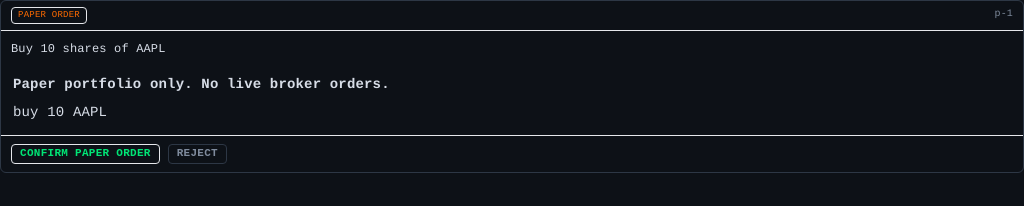
ProposalCard › Confirm calls confirmProposal and shows confirmed
Click the button "Confirm paper order": (85, 154) [11, 144, 160, 164]
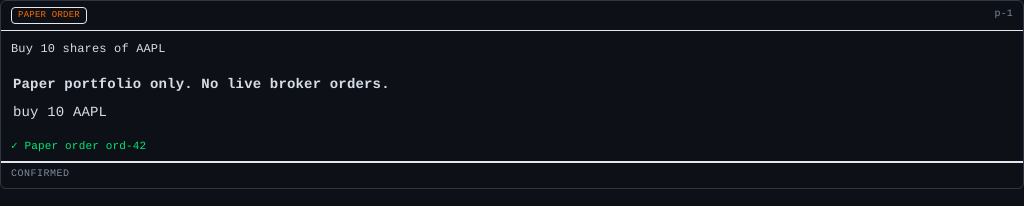
expect the text "✓ Paper order ord-42" is shown: met, box [1, 135, 1023, 162]
